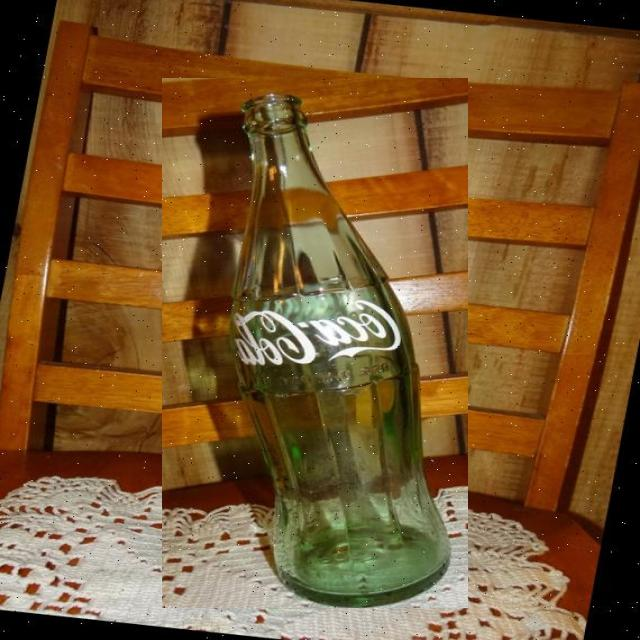coca-cola: (162, 78, 468, 608)
